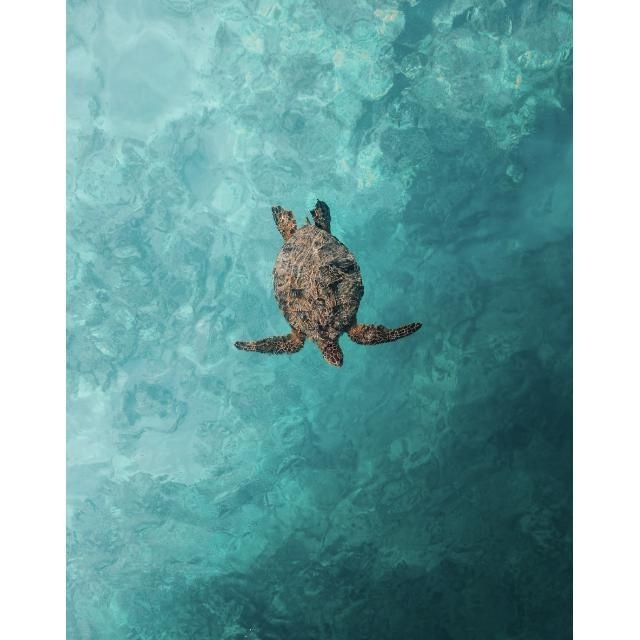turtle: (235, 198, 423, 367)
